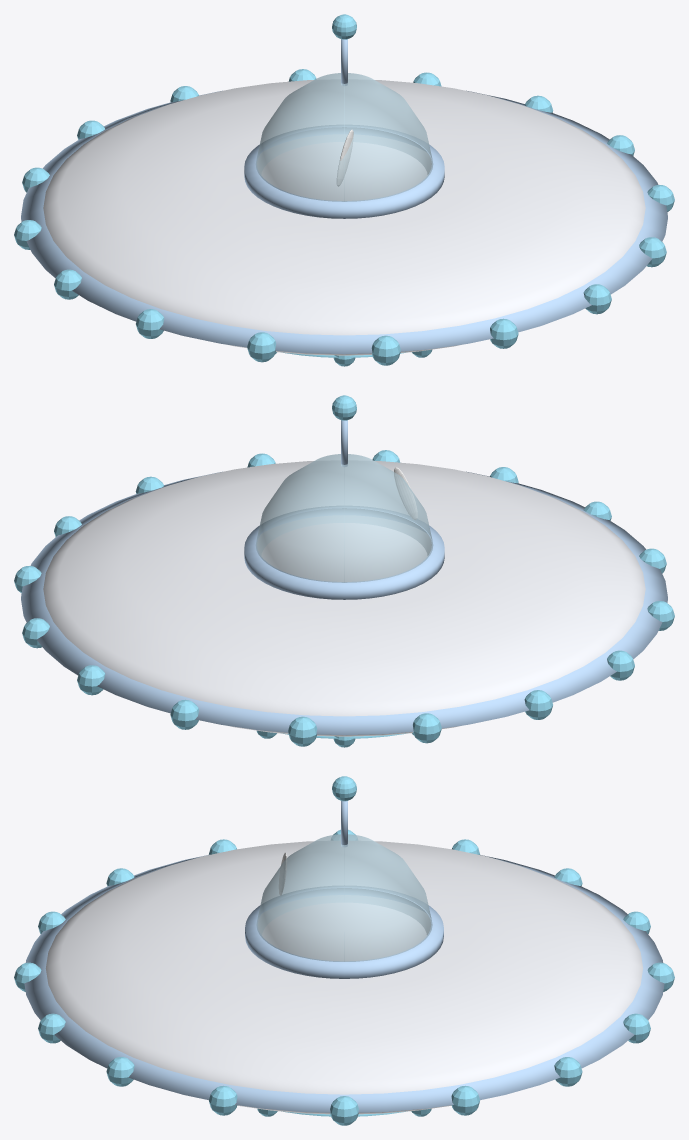
File: EventUFO.fbx
3 renders of one model, top to bottom at view 1: azimuth 30°, elevation 25°; view 2: azimuth 150°, elevation 25°; view 3: azimuth 270°, elevation 25°, orthographic.
Parts seen in each view (by area): view 1: EventUFO_disc, EventUFO_dome, EventUFO_trim, EventUFO_rimlights, EventUFO_domering; view 2: EventUFO_disc, EventUFO_dome, EventUFO_trim, EventUFO_rimlights, EventUFO_domering, EventUFO_dome_glanz; view 3: EventUFO_disc, EventUFO_dome, EventUFO_trim, EventUFO_rimlights, EventUFO_domering.
Part boxes in pixels (x1=…): EventUFO_disc: x1=43, y1=80, x2=645, y2=355; EventUFO_dome: x1=255, y1=73, x2=433, y2=201; EventUFO_trim: x1=21, y1=90, x2=667, y2=354; EventUFO_rimlights: x1=14, y1=69, x2=674, y2=365; EventUFO_domering: x1=244, y1=125, x2=444, y2=218; EventUFO_disc: x1=43, y1=461, x2=645, y2=736; EventUFO_dome: x1=255, y1=454, x2=433, y2=582; EventUFO_trim: x1=21, y1=471, x2=667, y2=735; EventUFO_rimlights: x1=14, y1=450, x2=674, y2=746; EventUFO_domering: x1=244, y1=506, x2=444, y2=599; EventUFO_dome_glanz: x1=394, y1=467, x2=417, y2=519; EventUFO_disc: x1=45, y1=841, x2=643, y2=1114; EventUFO_dome: x1=256, y1=834, x2=432, y2=961; EventUFO_trim: x1=24, y1=854, x2=664, y2=1112; EventUFO_rimlights: x1=14, y1=829, x2=674, y2=1125; EventUFO_domering: x1=245, y1=886, x2=443, y2=978.
Bounding box in the file's own units: 4190 × 1975 × 4190.
